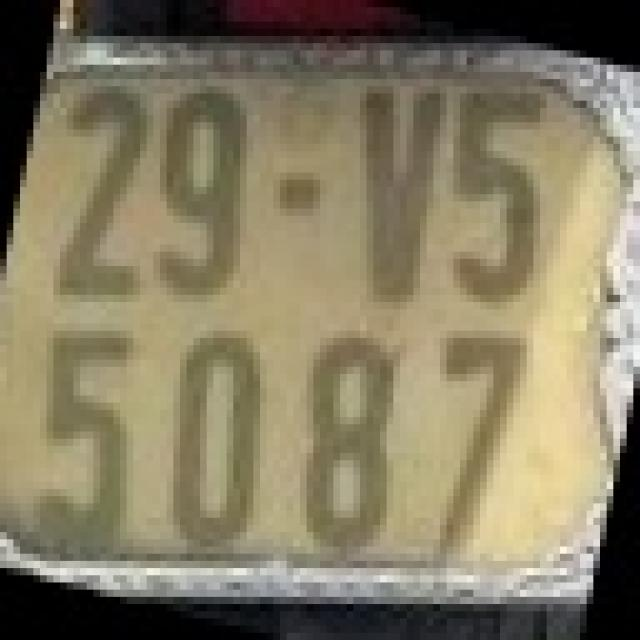0: (166, 324, 266, 546)
2: (53, 79, 147, 295)
5: (446, 86, 546, 302), (40, 324, 140, 532)
7: (427, 324, 533, 568)
8: (293, 324, 407, 546)
9: (154, 79, 254, 295)
V: (353, 79, 440, 302)
